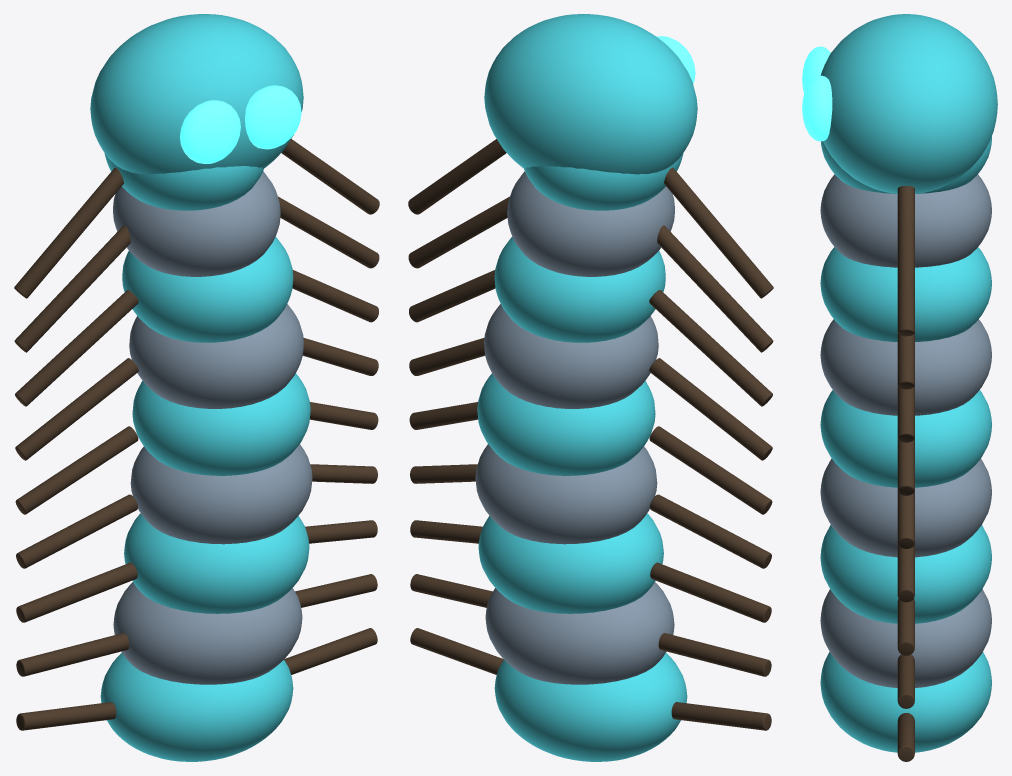
Rendered from crawler_v6.glb.
3 renders of one model, left to right at view 1: azimuth 30°, elevation 25°; view 2: azimuth 150°, elevation 25°; view 3: azimuth 270°, elevation 25°, orthographic.
Parts seen in each view (by area): view 1: CENTIPEDE_HEAD_ACCENT, CENTIPEDE_SEGMENT_ACCENT, CENTIPEDE_SEGMENT_PRIMARY, CENTIPEDE_SEGMENT_ACCENT.001, CENTIPEDE_SEGMENT_PRIMARY.001, CENTIPEDE_SEGMENT_ACCENT.002, CENTIPEDE_SEGMENT_PRIMARY.002, CENTIPEDE_SEGMENT_ACCENT.003, CENTIPEDE_SEGMENT_PRIMARY.003, CENTIPEDE_SEGMENT_ACCENT.004, EYE_EMISSIVE, EYE_EMISSIVE.001 (+18 smaller); view 2: CENTIPEDE_HEAD_ACCENT, CENTIPEDE_SEGMENT_ACCENT, CENTIPEDE_SEGMENT_PRIMARY, CENTIPEDE_SEGMENT_ACCENT.001, CENTIPEDE_SEGMENT_PRIMARY.001, CENTIPEDE_SEGMENT_ACCENT.002, CENTIPEDE_SEGMENT_PRIMARY.002, CENTIPEDE_SEGMENT_ACCENT.003, CENTIPEDE_SEGMENT_PRIMARY.003, CENTIPEDE_SEGMENT_ACCENT.004, CENTIPEDE_LEG_SECONDARY.014, CENTIPEDE_LEG_SECONDARY.016 (+16 smaller); view 3: CENTIPEDE_HEAD_ACCENT, CENTIPEDE_SEGMENT_ACCENT.003, CENTIPEDE_SEGMENT_PRIMARY.003, CENTIPEDE_SEGMENT_PRIMARY.002, CENTIPEDE_SEGMENT_ACCENT.002, CENTIPEDE_SEGMENT_PRIMARY.001, CENTIPEDE_SEGMENT_ACCENT.001, CENTIPEDE_SEGMENT_ACCENT, CENTIPEDE_SEGMENT_PRIMARY, CENTIPEDE_LEG_SECONDARY.017, EYE_EMISSIVE.001, CENTIPEDE_SEGMENT_ACCENT.004 (+9 smaller).
Boxes of the visible parts, <box> form: CENTIPEDE_HEAD_ACCENT: <box>90,14,303,174</box>; CENTIPEDE_SEGMENT_ACCENT: <box>100,653,293,761</box>; CENTIPEDE_SEGMENT_PRIMARY: <box>113,582,302,684</box>; CENTIPEDE_SEGMENT_ACCENT.001: <box>124,513,309,613</box>; CENTIPEDE_SEGMENT_PRIMARY.001: <box>130,444,312,544</box>; CENTIPEDE_SEGMENT_ACCENT.002: <box>132,373,310,475</box>; CENTIPEDE_SEGMENT_PRIMARY.002: <box>129,304,303,408</box>; CENTIPEDE_SEGMENT_ACCENT.003: <box>122,237,293,342</box>; CENTIPEDE_SEGMENT_PRIMARY.003: <box>113,171,280,276</box>; CENTIPEDE_SEGMENT_ACCENT.004: <box>104,153,263,210</box>; EYE_EMISSIVE: <box>180,100,240,163</box>; EYE_EMISSIVE.001: <box>245,85,301,149</box>; CENTIPEDE_HEAD_ACCENT: <box>484,14,697,174</box>; CENTIPEDE_SEGMENT_ACCENT: <box>494,653,687,761</box>; CENTIPEDE_SEGMENT_PRIMARY: <box>485,582,674,684</box>; CENTIPEDE_SEGMENT_ACCENT.001: <box>478,513,663,613</box>; CENTIPEDE_SEGMENT_PRIMARY.001: <box>475,444,657,544</box>; CENTIPEDE_SEGMENT_ACCENT.002: <box>477,373,655,475</box>; CENTIPEDE_SEGMENT_PRIMARY.002: <box>484,304,658,408</box>; CENTIPEDE_SEGMENT_ACCENT.003: <box>494,237,665,342</box>; CENTIPEDE_SEGMENT_PRIMARY.003: <box>507,171,674,276</box>; CENTIPEDE_SEGMENT_ACCENT.004: <box>524,153,683,210</box>; CENTIPEDE_LEG_SECONDARY.014: <box>657,225,773,352</box>; CENTIPEDE_LEG_SECONDARY.016: <box>664,167,773,298</box>; CENTIPEDE_HEAD_ACCENT: <box>820,14,997,193</box>; CENTIPEDE_SEGMENT_ACCENT.003: <box>820,247,991,341</box>; CENTIPEDE_SEGMENT_PRIMARY.003: <box>820,174,991,267</box>; CENTIPEDE_SEGMENT_PRIMARY.002: <box>820,319,991,415</box>; CENTIPEDE_SEGMENT_ACCENT.002: <box>820,390,991,487</box>; CENTIPEDE_SEGMENT_PRIMARY.001: <box>820,458,991,557</box>; CENTIPEDE_SEGMENT_ACCENT.001: <box>820,525,991,623</box>; CENTIPEDE_SEGMENT_ACCENT: <box>820,652,991,752</box>; CENTIPEDE_SEGMENT_PRIMARY: <box>820,589,991,687</box>; CENTIPEDE_LEG_SECONDARY.017: <box>897,185,914,336</box>; EYE_EMISSIVE.001: <box>802,75,832,141</box>; CENTIPEDE_SEGMENT_ACCENT.004: <box>821,136,991,193</box>.
Bounding box in the file's own units: 1.12 × 2.15 × 0.5336.
